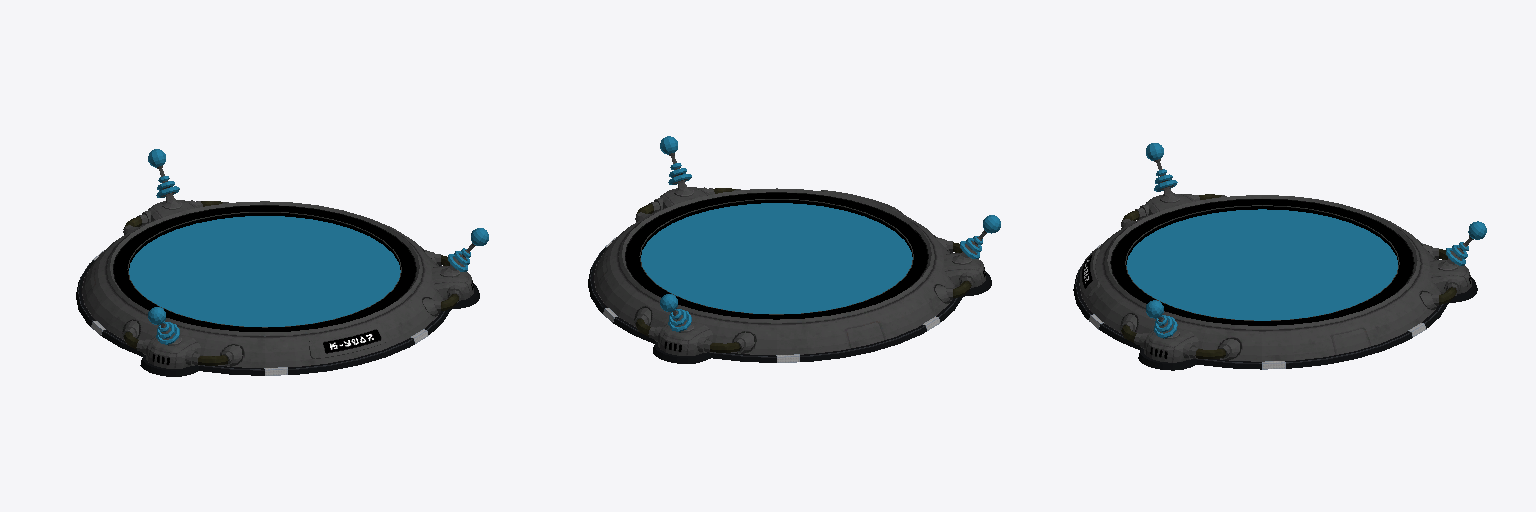
3 views of the same model, side by side, from view 1: azimuth 30°, elevation 25°; view 2: azimuth 150°, elevation 25°; view 3: azimuth 270°, elevation 25° (orthographic).
Visible parts, largest first — view 1: Platform.001, Platform.003, Platform.002; view 2: Platform.001, Platform.003, Platform.002; view 3: Platform.001, Platform.003, Platform.002.
Part boxes in pixels (x1,y1,x2,y2): Platform.001: (76,165,479,376); Platform.003: (129,216,400,326); Platform.002: (148,149,488,344); Platform.001: (588,153,991,363); Platform.003: (641,203,912,313); Platform.002: (660,136,1000,331); Platform.001: (1073,159,1477,370); Platform.003: (1126,209,1397,320); Platform.002: (1146,143,1486,338).
Bounding box in the file's own units: 0.8932 × 0.1697 × 0.9454.
Materials: 2 (1 with a texture image).